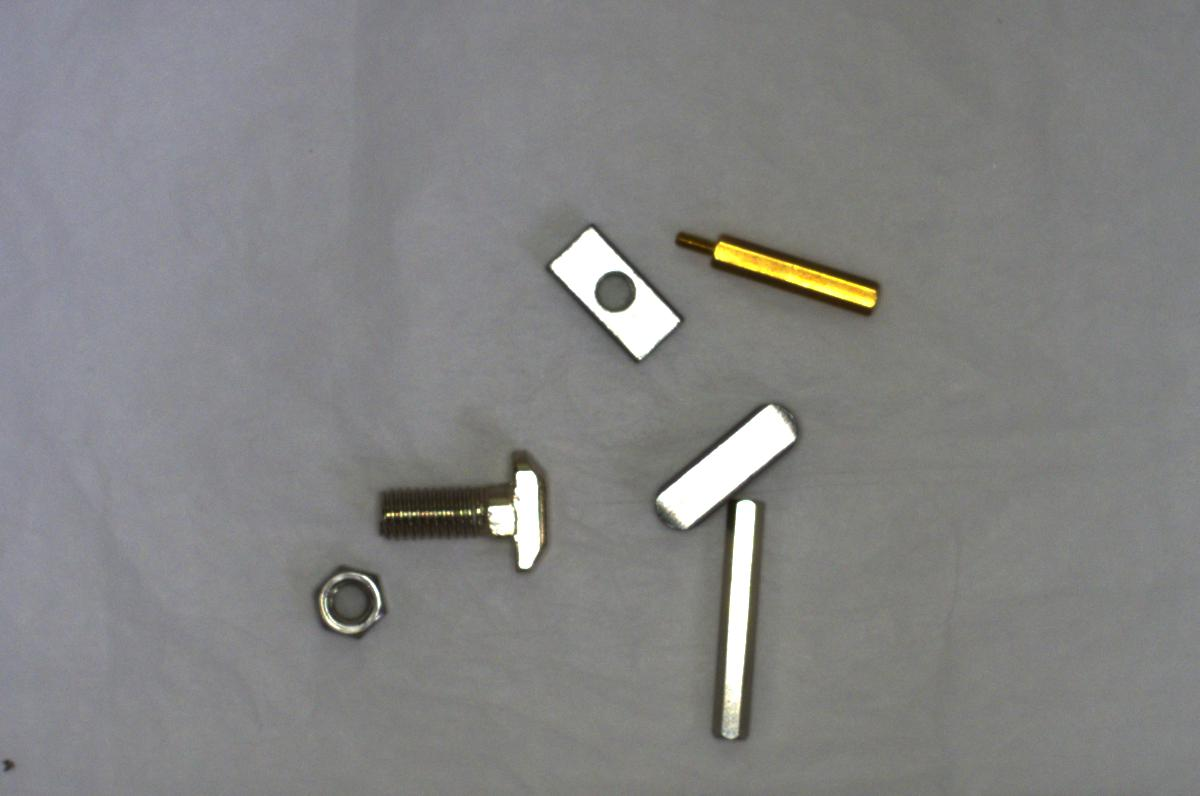Double hexagonal column: (706, 496, 761, 743)
Hexagon nut: (300, 553, 395, 640)
Hexagon pillar: (666, 219, 887, 315)
Keybar: (650, 394, 812, 530)
Rectangular nut: (546, 223, 682, 362)
T-shaped screw: (360, 442, 557, 581)
